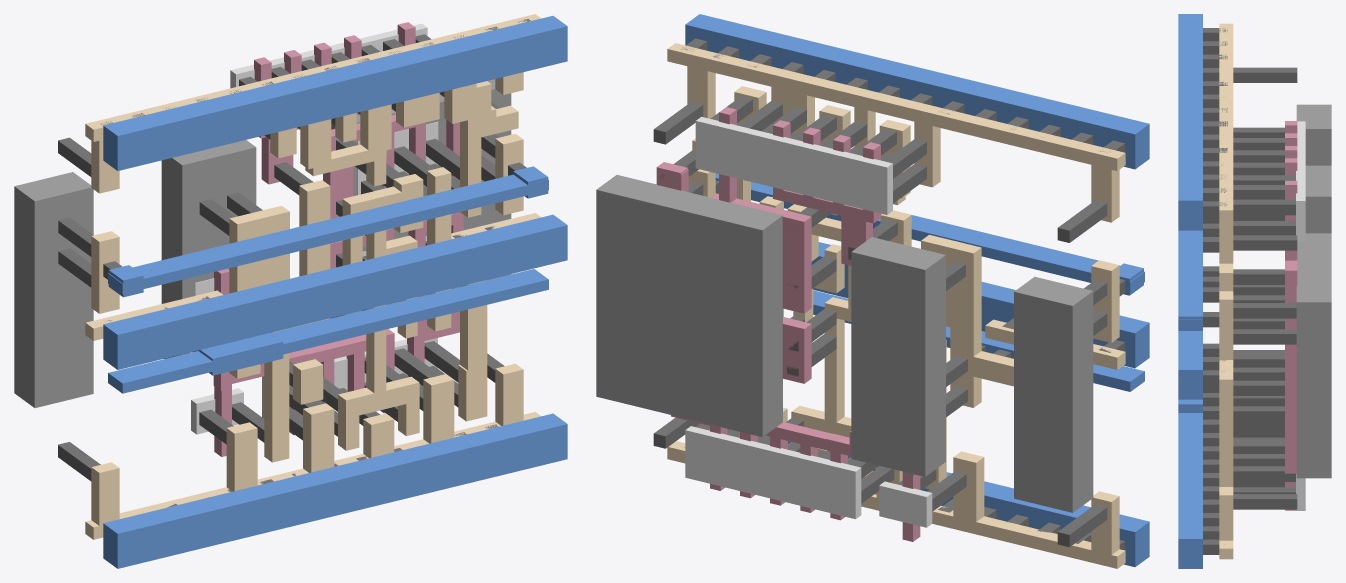
File: sky130_fd_sc_hd__lpflow_lsbuf_lh_hl_isowell_tap_1.gds.gltf
The picture shows the model from 3 angles, left to right: view 1: azimuth 30°, elevation 25°; view 2: azimuth 150°, elevation 25°; view 3: azimuth 270°, elevation 25°; orthographic projection. The views are drawn at different scales.
Parts seen in each view (by area): view 1: sky130_fd_sc_hd__lpflow_lsbuf_lh_hl_isowell_tap_1_met1, sky130_fd_sc_hd__lpflow_lsbuf_lh_hl_isowell_tap_1_li1, sky130_fd_sc_hd__lpflow_lsbuf_lh_hl_isowell_tap_1_nwell, sky130_fd_sc_hd__lpflow_lsbuf_lh_hl_isowell_tap_1_licon, sky130_fd_sc_hd__lpflow_lsbuf_lh_hl_isowell_tap_1_poly, sky130_fd_sc_hd__lpflow_lsbuf_lh_hl_isowell_tap_1_diff, sky130_fd_sc_hd__lpflow_lsbuf_lh_hl_isowell_tap_1_mcon; view 2: sky130_fd_sc_hd__lpflow_lsbuf_lh_hl_isowell_tap_1_nwell, sky130_fd_sc_hd__lpflow_lsbuf_lh_hl_isowell_tap_1_li1, sky130_fd_sc_hd__lpflow_lsbuf_lh_hl_isowell_tap_1_met1, sky130_fd_sc_hd__lpflow_lsbuf_lh_hl_isowell_tap_1_diff, sky130_fd_sc_hd__lpflow_lsbuf_lh_hl_isowell_tap_1_licon, sky130_fd_sc_hd__lpflow_lsbuf_lh_hl_isowell_tap_1_poly, sky130_fd_sc_hd__lpflow_lsbuf_lh_hl_isowell_tap_1_mcon; view 3: sky130_fd_sc_hd__lpflow_lsbuf_lh_hl_isowell_tap_1_licon, sky130_fd_sc_hd__lpflow_lsbuf_lh_hl_isowell_tap_1_met1, sky130_fd_sc_hd__lpflow_lsbuf_lh_hl_isowell_tap_1_nwell, sky130_fd_sc_hd__lpflow_lsbuf_lh_hl_isowell_tap_1_mcon, sky130_fd_sc_hd__lpflow_lsbuf_lh_hl_isowell_tap_1_li1, sky130_fd_sc_hd__lpflow_lsbuf_lh_hl_isowell_tap_1_poly, sky130_fd_sc_hd__lpflow_lsbuf_lh_hl_isowell_tap_1_diff.
Boxes of the visible parts, <box> form: sky130_fd_sc_hd__lpflow_lsbuf_lh_hl_isowell_tap_1_met1: <box>103,16,567,568</box>; sky130_fd_sc_hd__lpflow_lsbuf_lh_hl_isowell_tap_1_li1: <box>85,14,541,539</box>; sky130_fd_sc_hd__lpflow_lsbuf_lh_hl_isowell_tap_1_nwell: <box>14,79,511,407</box>; sky130_fd_sc_hd__lpflow_lsbuf_lh_hl_isowell_tap_1_licon: <box>58,34,504,481</box>; sky130_fd_sc_hd__lpflow_lsbuf_lh_hl_isowell_tap_1_poly: <box>213,22,463,456</box>; sky130_fd_sc_hd__lpflow_lsbuf_lh_hl_isowell_tap_1_diff: <box>191,23,438,434</box>; sky130_fd_sc_hd__lpflow_lsbuf_lh_hl_isowell_tap_1_mcon: <box>100,19,530,507</box>; sky130_fd_sc_hd__lpflow_lsbuf_lh_hl_isowell_tap_1_nwell: <box>596,175,1093,512</box>; sky130_fd_sc_hd__lpflow_lsbuf_lh_hl_isowell_tap_1_li1: <box>667,43,1125,568</box>; sky130_fd_sc_hd__lpflow_lsbuf_lh_hl_isowell_tap_1_met1: <box>685,14,1149,566</box>; sky130_fd_sc_hd__lpflow_lsbuf_lh_hl_isowell_tap_1_diff: <box>685,116,932,527</box>; sky130_fd_sc_hd__lpflow_lsbuf_lh_hl_isowell_tap_1_licon: <box>653,96,1107,547</box>; sky130_fd_sc_hd__lpflow_lsbuf_lh_hl_isowell_tap_1_poly: <box>656,107,920,541</box>; sky130_fd_sc_hd__lpflow_lsbuf_lh_hl_isowell_tap_1_mcon: <box>681,38,1125,550</box>; sky130_fd_sc_hd__lpflow_lsbuf_lh_hl_isowell_tap_1_licon: <box>1233,67,1297,509</box>; sky130_fd_sc_hd__lpflow_lsbuf_lh_hl_isowell_tap_1_met1: <box>1178,14,1202,568</box>; sky130_fd_sc_hd__lpflow_lsbuf_lh_hl_isowell_tap_1_nwell: <box>1296,104,1331,478</box>; sky130_fd_sc_hd__lpflow_lsbuf_lh_hl_isowell_tap_1_mcon: <box>1203,28,1227,554</box>; sky130_fd_sc_hd__lpflow_lsbuf_lh_hl_isowell_tap_1_li1: <box>1219,23,1233,559</box>; sky130_fd_sc_hd__lpflow_lsbuf_lh_hl_isowell_tap_1_poly: <box>1285,121,1297,510</box>; sky130_fd_sc_hd__lpflow_lsbuf_lh_hl_isowell_tap_1_diff: <box>1296,121,1305,510</box>.
Size of the model in its own units: 6.82 by 5.92 by 2.24.
